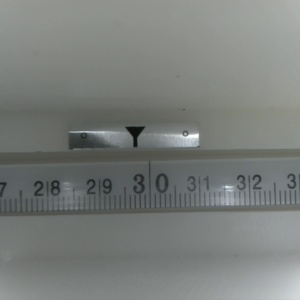0: (154, 173, 168, 193)
1: (203, 176, 209, 190)
2: (85, 179, 96, 194), (33, 181, 44, 196), (252, 175, 261, 189)
3: (132, 173, 145, 193), (286, 173, 296, 189), (186, 176, 196, 192), (236, 175, 246, 190)
8: (49, 180, 60, 195)
9: (102, 178, 112, 194)
finger: (123, 126, 145, 148)
